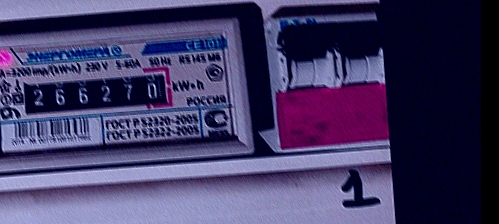0: (144, 80, 157, 98)
2: (29, 87, 43, 106), (98, 83, 110, 102)
6: (52, 86, 65, 105), (75, 86, 88, 104)
7: (121, 81, 133, 100)
screen: (11, 62, 177, 123)
